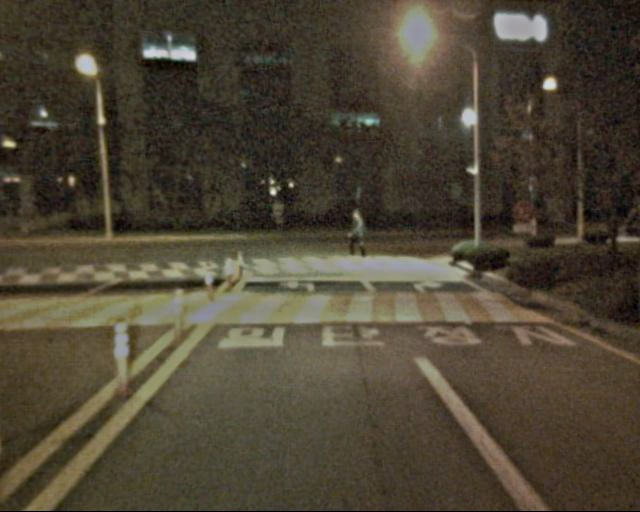person: (345, 211, 369, 269)
